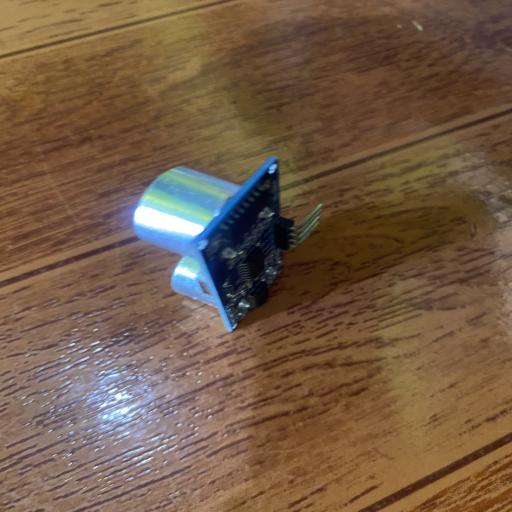Ultrasonic Sensor: (130, 151, 326, 334)
